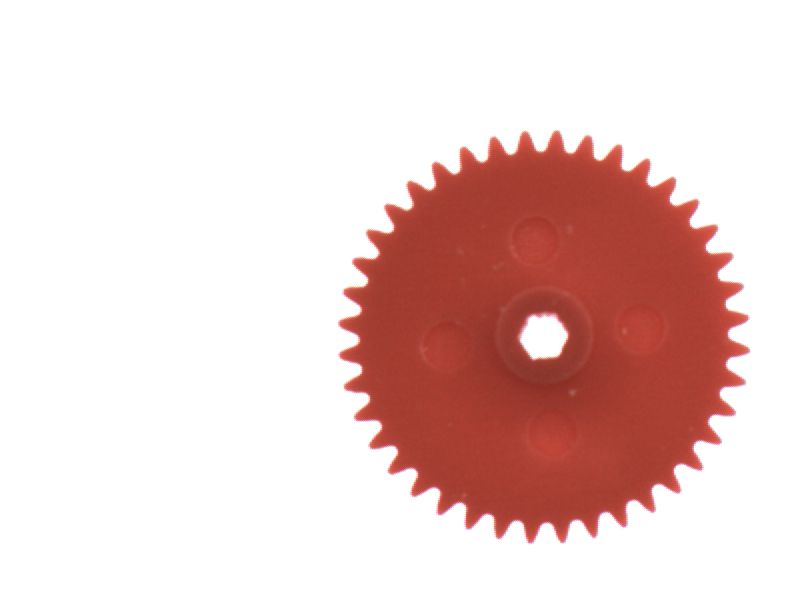good_product: (327, 119, 760, 556)
